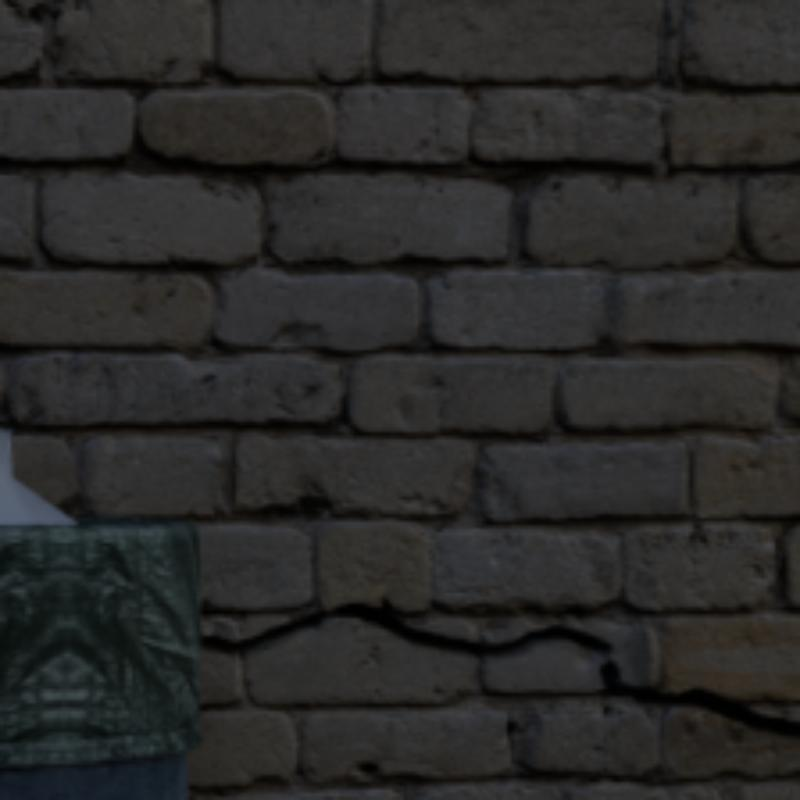pothole: (200, 604, 796, 739)
